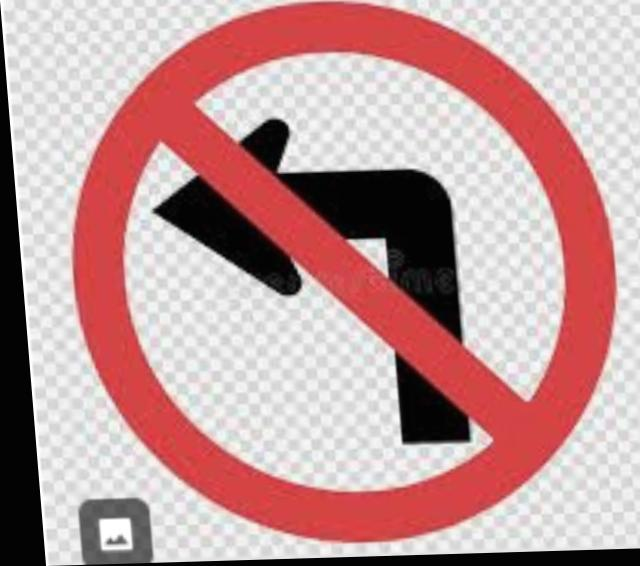not_turn_left: (37, 0, 640, 565)
